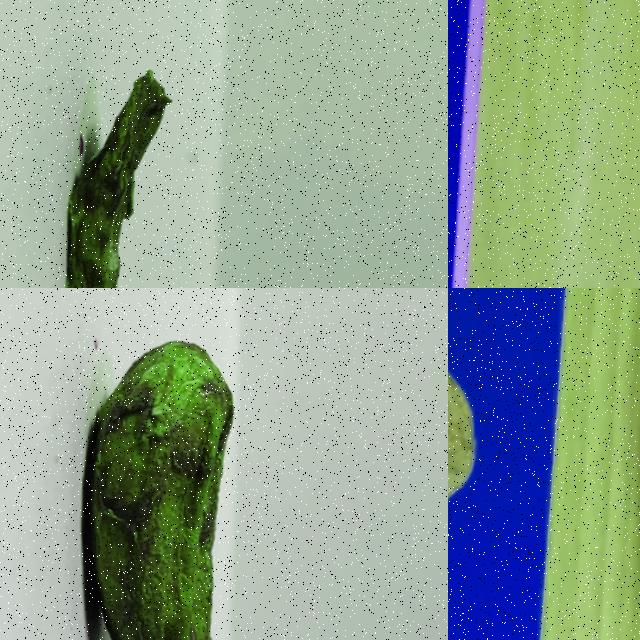Agglomerated_cocoabeans: (448, 0, 491, 287)
Fine_cocoabeans: (25, 288, 325, 639), (448, 288, 529, 639)
Flat_cocoabeans: (35, 32, 216, 287)
